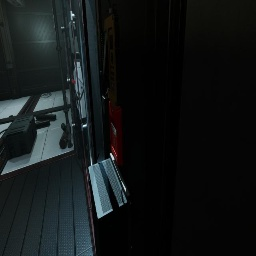EmergencyPhone ,: (99, 0, 121, 107)
FireAlarm ,: (109, 101, 123, 166)
NitrogenTank ,: (59, 125, 71, 149)
SafetySwitchPanel ,: (72, 58, 86, 120)
